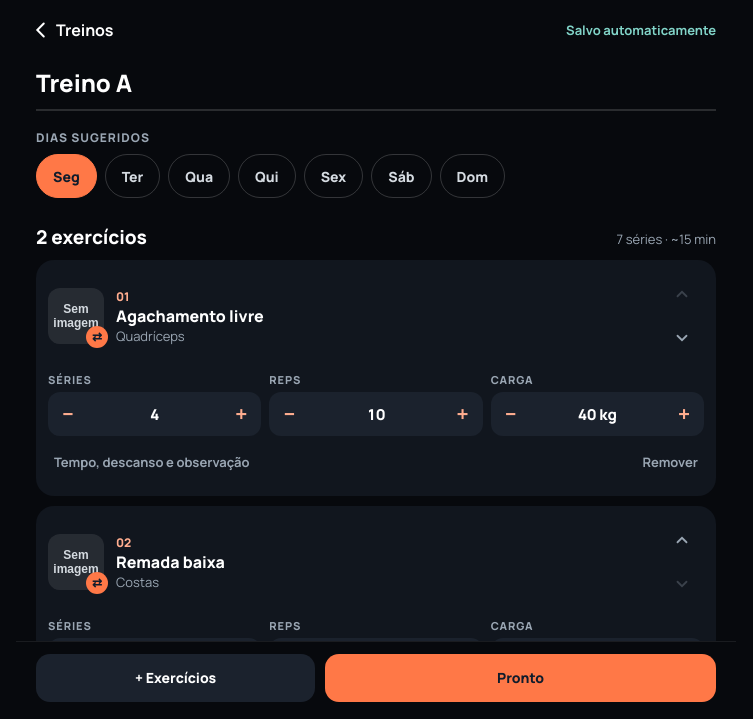
Scenario: WorkoutEditor (FIT-146) › dias sugeridos salvam no treino; medir por tempo troca repetições por segundos
What coordinates should you click on to do the following:
click the button "Qui"
I would click on:
 (267, 176)
Its box is [238,154,296,198].
(page scrolled)
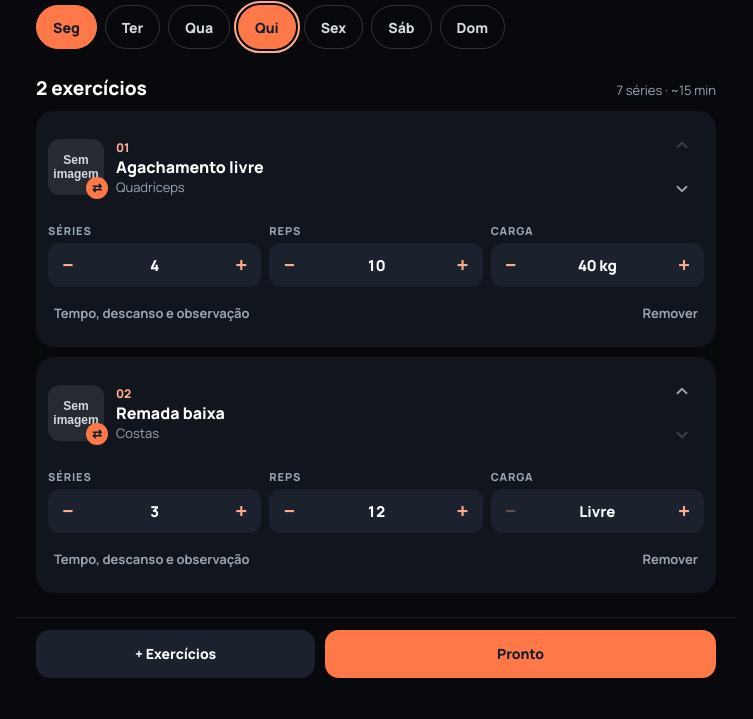
What coordinates should you click on to do the following:
click the button "Tempo, descanso e observação" below "02"
I would click on:
 (152, 559)
Its box is [48,537,256,581].
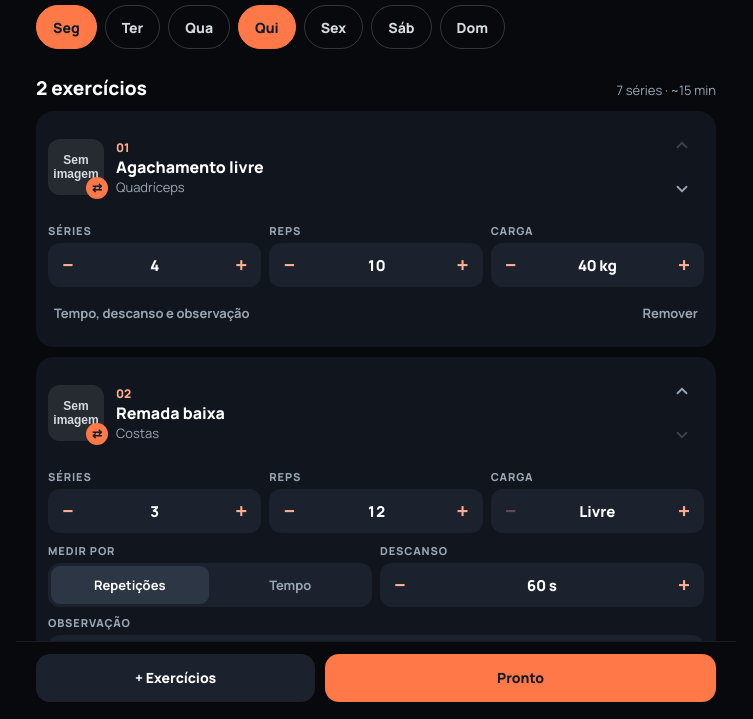
What coordinates should you click on to do the following:
click the radio button labelled "Tempo"
I would click on:
 (290, 585)
Its box is [212,566,369,604].
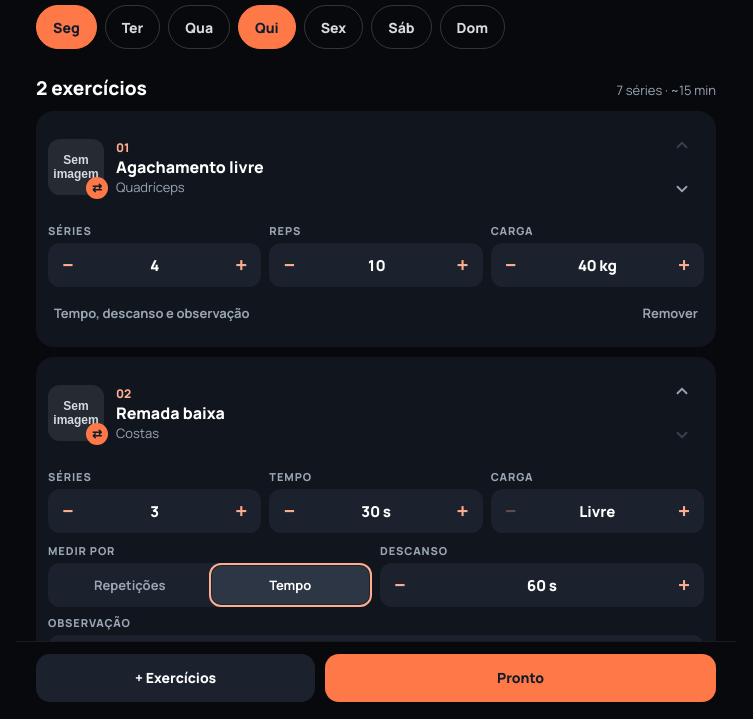
expect the text "30 s" is shown: met, box [361,500,391,522]
